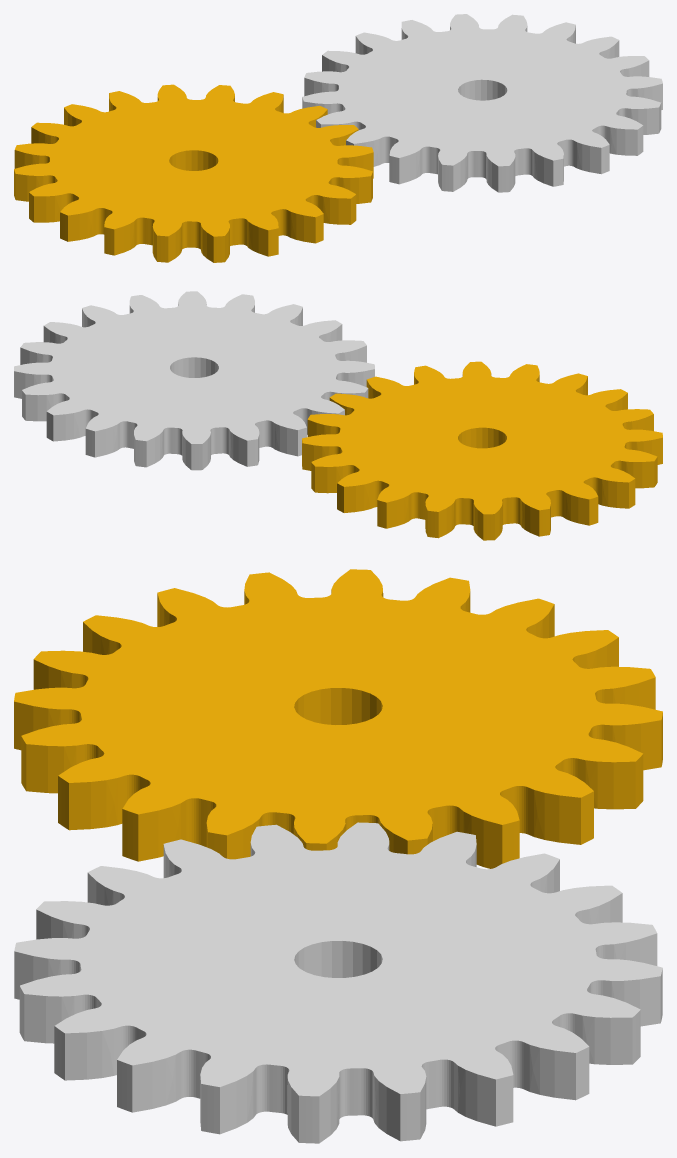
Rendered from gear20_2gear.gltf.
The picture shows the model from 3 angles, top to bottom: view 1: azimuth 30°, elevation 25°; view 2: azimuth 150°, elevation 25°; view 3: azimuth 270°, elevation 25°; orthographic projection. The views are drawn at different scales.
Visible parts, largest first — view 1: Gear01, Gear01.001; view 2: Gear01, Gear01.001; view 3: Gear01.001, Gear01.
Boxes of the visible parts, x1,y1,x2,y2 form: Gear01: (14, 84, 373, 262); Gear01.001: (302, 14, 662, 192); Gear01: (302, 361, 662, 540); Gear01.001: (14, 291, 374, 470); Gear01.001: (14, 822, 662, 1143); Gear01: (14, 569, 662, 868).
Size of the model in its own units: 42.25 by 1.76 by 21.99.
